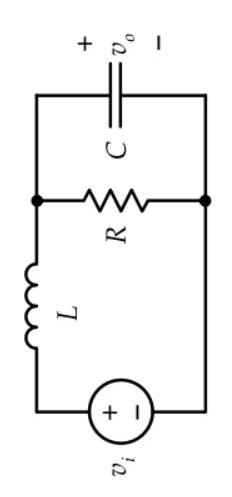Capacitor: (85, 55, 149, 127)
